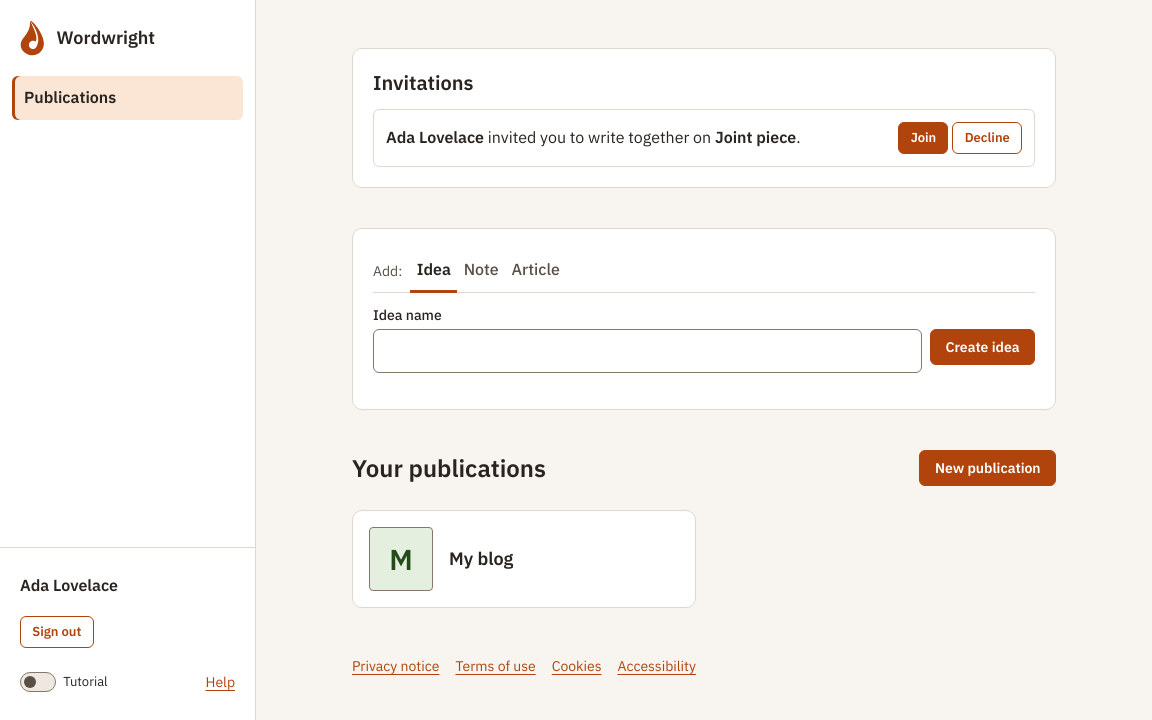
Home: invitations waiting for you › says why joining failed and stays put
The image size is (1152, 720).
Click the button with aria-label "Join Joint piece" at (923, 138), box [898, 122, 948, 154]
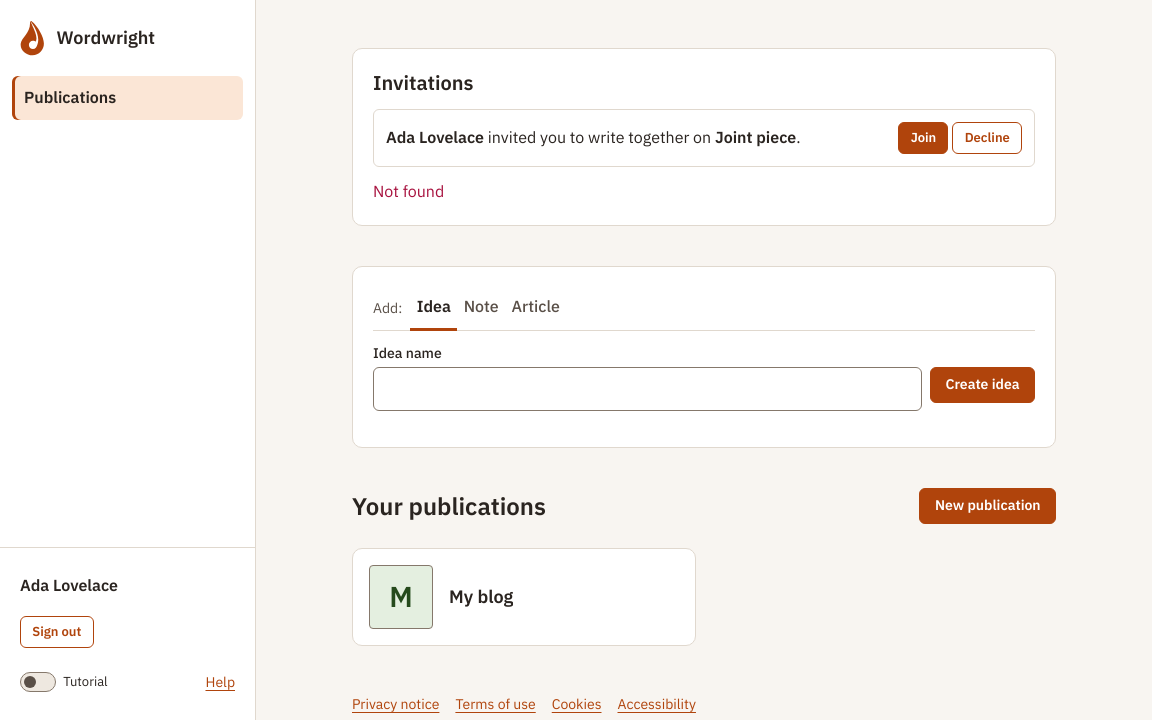
Now the message reads "Not found", box [373, 181, 444, 201]
